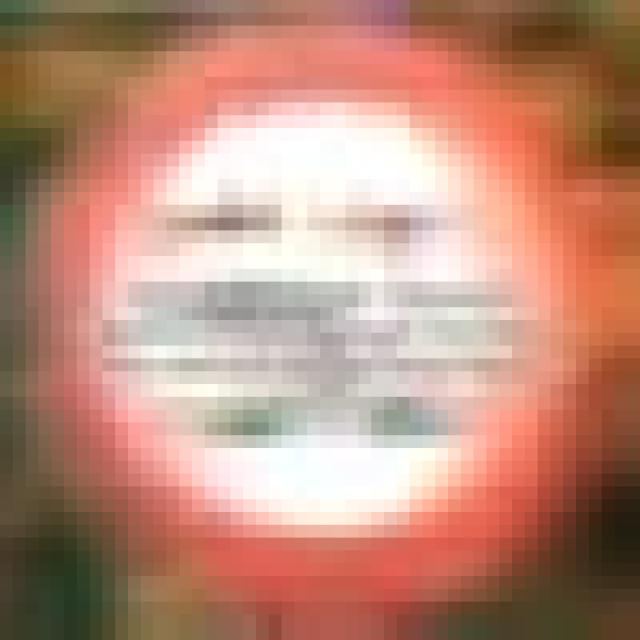speed_limit_30: (51, 38, 576, 550)
